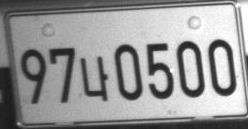0: (175, 39, 205, 98), (207, 38, 236, 97), (113, 44, 143, 101)
5: (146, 42, 174, 99)
7: (49, 47, 76, 103)
9: (20, 48, 46, 104)
나: (79, 55, 109, 101)
